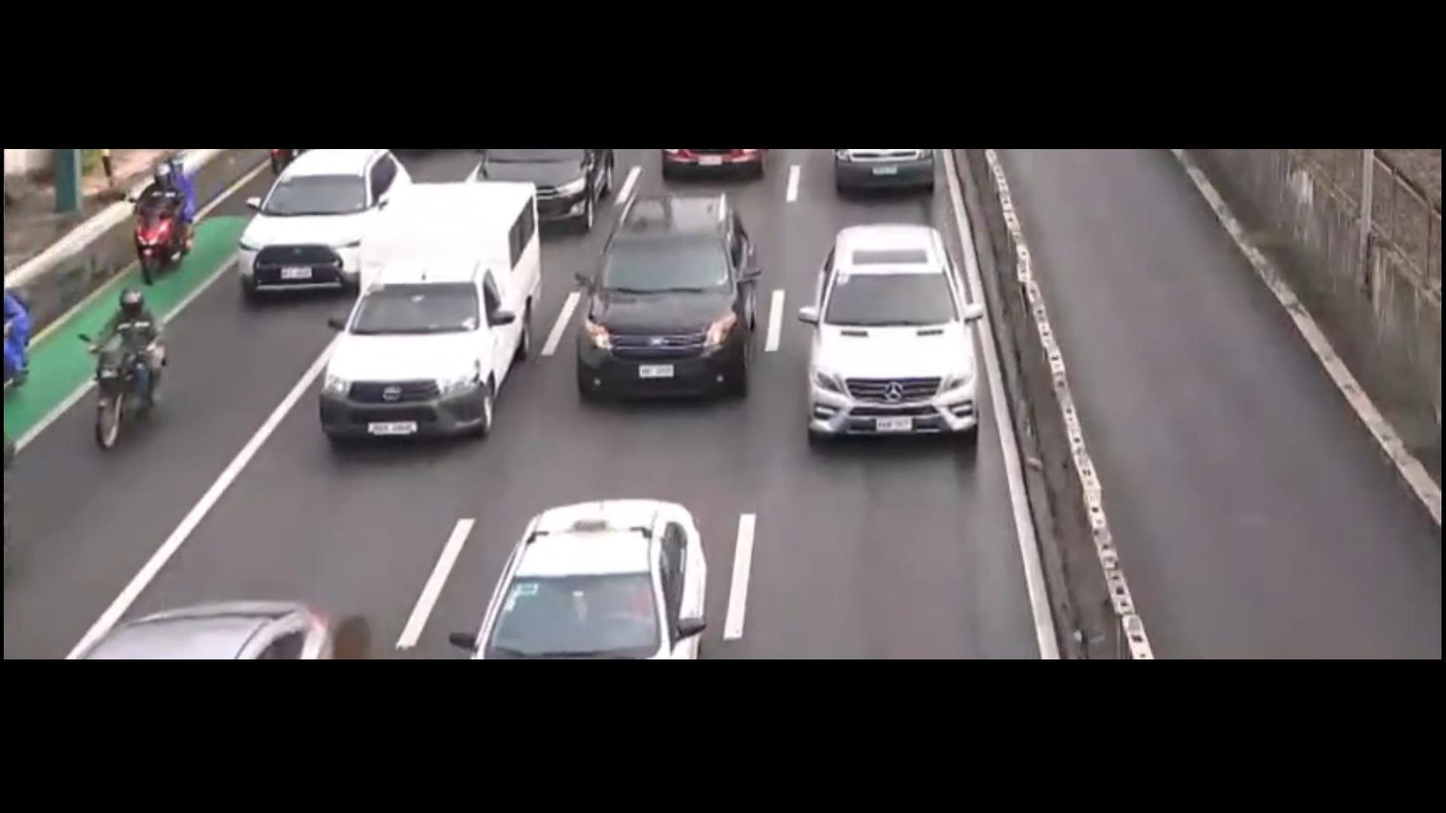Motorcycle: (85, 285, 179, 453), (122, 151, 209, 286)
Multicab: (310, 181, 561, 468)
SUV: (796, 215, 998, 458), (573, 177, 770, 404), (228, 140, 403, 319)
Sedan: (450, 488, 723, 664)
